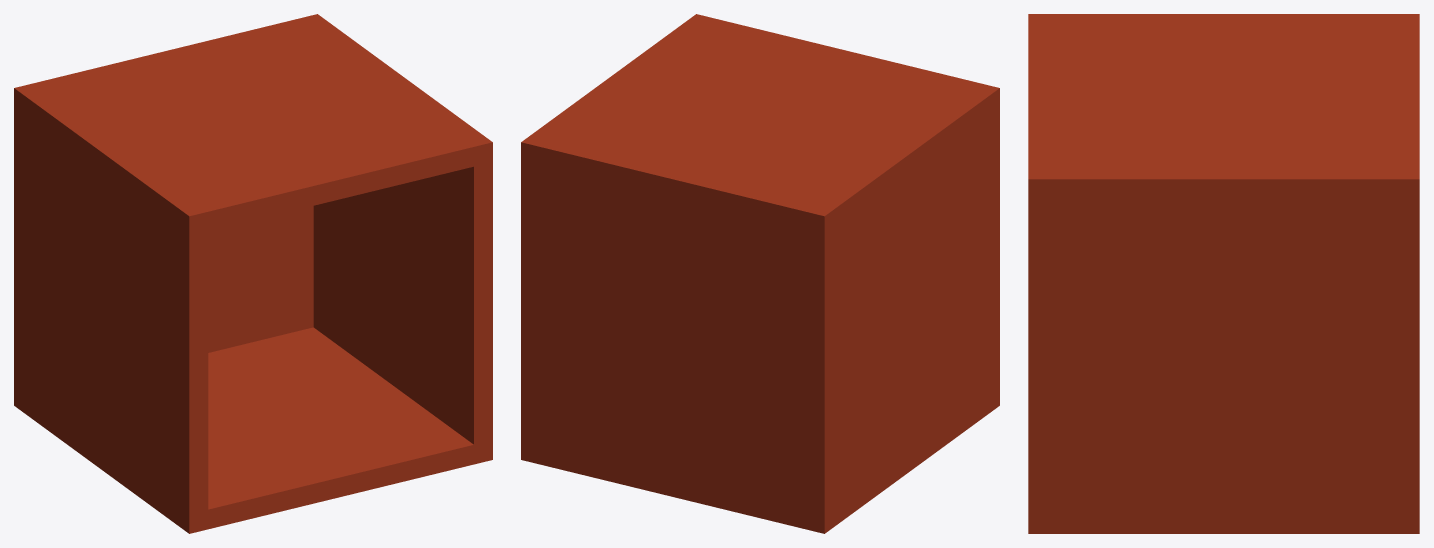
File: redCube.gltf
3 renders of one model, left to right at view 1: azimuth 30°, elevation 25°; view 2: azimuth 150°, elevation 25°; view 3: azimuth 270°, elevation 25°, orthographic. The views are drawn at different scales.
Parts seen in each view (by area): view 1: Cube; view 2: Cube; view 3: Cube.
Part boxes in pixels (bbox=[...]): Cube: bbox=[14, 14, 492, 533]; Cube: bbox=[521, 14, 999, 533]; Cube: bbox=[1028, 14, 1419, 533].
Size of the model in its own units: 0.5229 by 0.5229 by 0.5229.
1 material, 1 textured.
